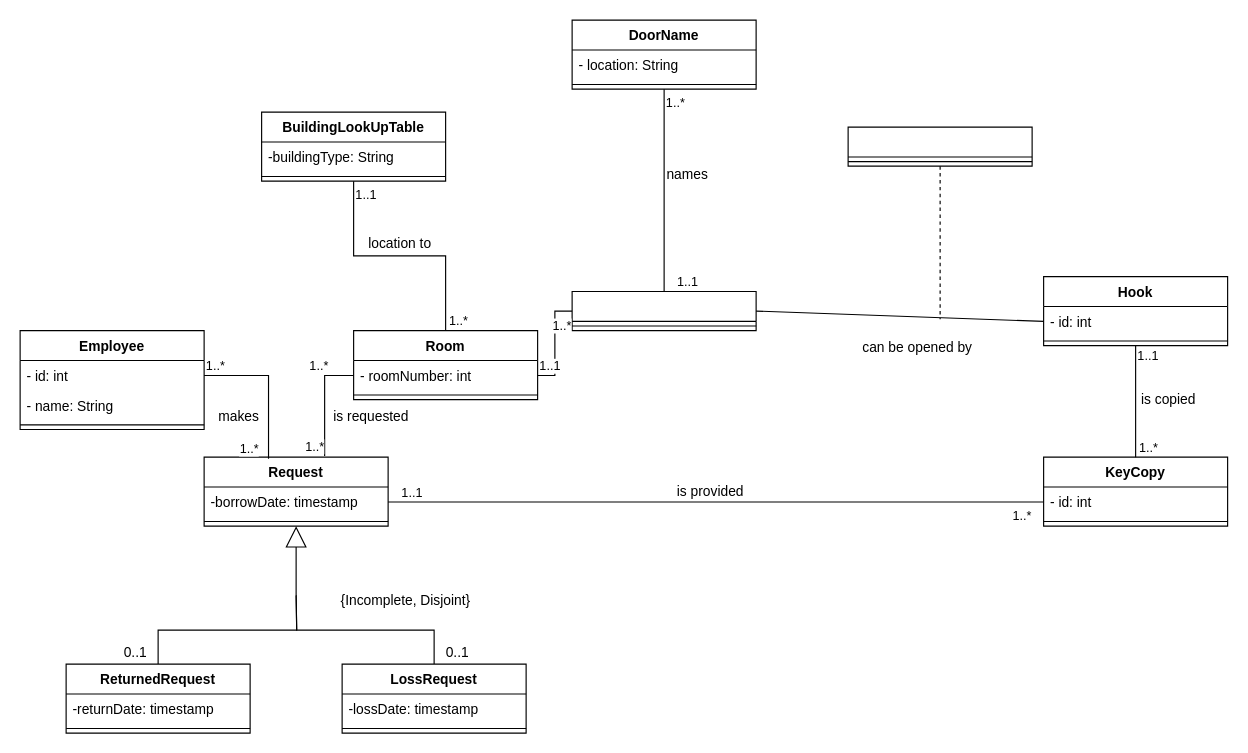
The diagram is 1248 pixels wide and 753 high, and some of its shapes have lost their labels. The centre of each missing label's shape, as x and y in pixels:
Door: the point at 663,310
DoorHookJunction: the point at 939,146
